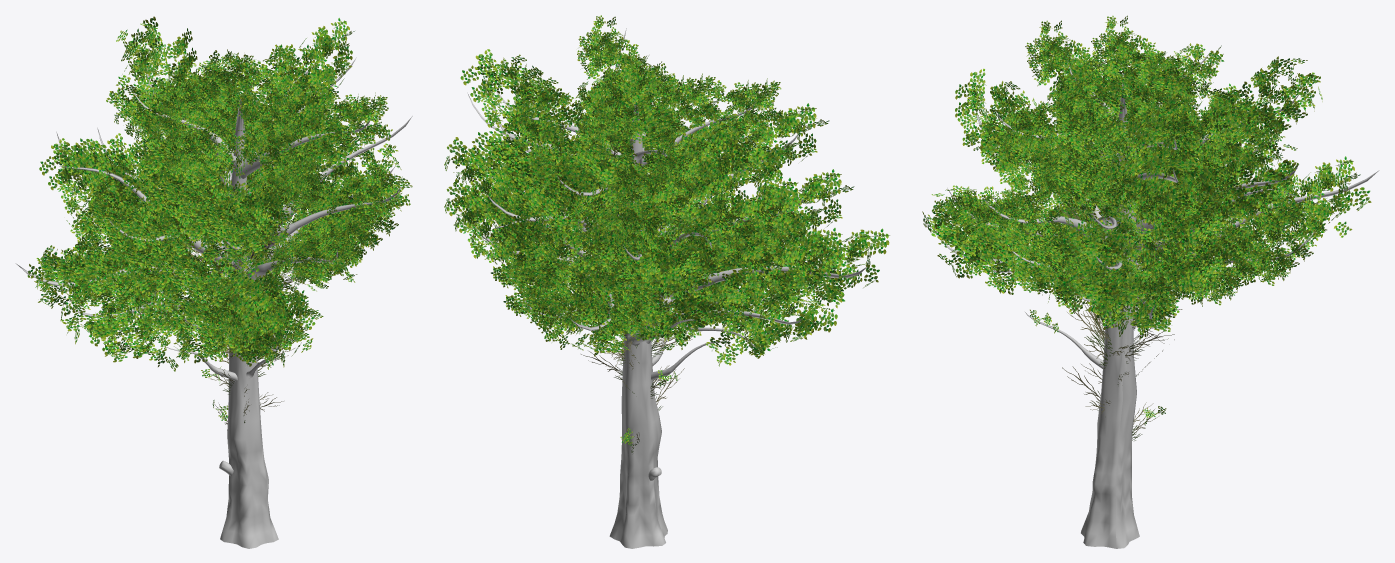
The model's file is tree_basic1.obj.
The picture shows the model from 3 angles, left to right: view 1: azimuth 30°, elevation 25°; view 2: azimuth 150°, elevation 25°; view 3: azimuth 270°, elevation 25°; orthographic projection. The views are drawn at different scales.
Parts seen in each view (by area): view 1: Tree_0.043, Tree_1.097, Tree_1.083, Tree_1.086, Tree_1.082, Tree_1.085, Tree_1.079, Tree_1.081, Tree_1.062, Tree_1.092, Tree_1.101, Tree_1.087 (+32 smaller); view 2: Tree_0.043, Tree_1.083, Tree_1.097, Tree_1.081, Tree_1.088, Tree_1.079, Tree_1.101, Tree_1.089, Tree_1.086, Tree_1.080, Tree_1.082, Tree_1.061 (+28 smaller); view 3: Tree_0.043, Tree_1.101, Tree_1.089, Tree_1.088, Tree_1.083, Tree_1.052, Tree_1.050, Tree_1.064, Tree_1.086, Tree_1.098, Tree_1.090, Tree_1.061 (+29 smaller).
Part boxes in pixels (box(x1,y1,x2,y2)): Tree_0.043: box(220, 95, 278, 548); Tree_1.097: box(60, 275, 191, 371); Tree_1.083: box(252, 18, 354, 115); Tree_1.086: box(182, 192, 278, 267); Tree_1.082: box(57, 138, 160, 213); Tree_1.085: box(221, 285, 318, 369); Tree_1.079: box(66, 190, 162, 264); Tree_1.081: box(27, 233, 121, 316); Tree_1.062: box(229, 61, 304, 156); Tree_1.092: box(296, 91, 392, 154); Tree_1.101: box(116, 16, 200, 125); Tree_1.087: box(151, 241, 241, 314); Tree_0.043: box(609, 102, 667, 548); Tree_1.083: box(460, 49, 584, 158); Tree_1.097: box(700, 276, 837, 366); Tree_1.081: box(765, 228, 889, 309); Tree_1.088: box(482, 177, 611, 274); Tree_1.079: box(727, 169, 854, 259); Tree_1.101: box(517, 139, 640, 230); Tree_1.089: box(548, 274, 641, 356); Tree_1.086: box(702, 103, 829, 195); Tree_1.080: box(718, 228, 850, 307); Tree_1.082: box(636, 216, 722, 290); Tree_1.061: box(575, 62, 649, 151); Tree_0.043: box(1081, 84, 1139, 548); Tree_1.101: box(1206, 56, 1322, 151); Tree_1.089: box(1250, 156, 1371, 248); Tree_1.088: box(1194, 139, 1300, 232); Tree_1.083: box(1114, 95, 1207, 179); Tree_1.052: box(1055, 203, 1156, 286); Tree_1.050: box(1139, 174, 1240, 263); Tree_1.064: box(1139, 219, 1236, 306); Tree_1.086: box(955, 68, 1046, 190); Tree_1.098: box(1091, 256, 1183, 339); Tree_1.090: box(1226, 206, 1321, 285); Tree_1.061: box(1110, 44, 1211, 123).
Bounding box in the file's own units: 26.13 × 29.72 × 25.15.
